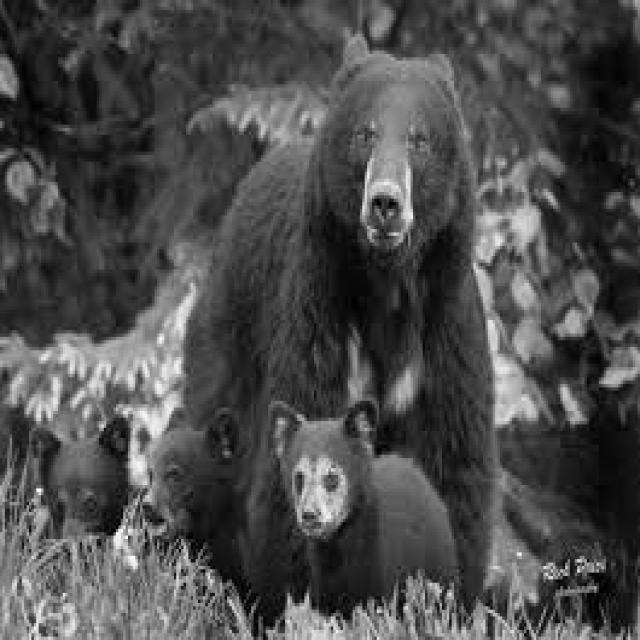Bear: (205, 59, 485, 402), (267, 414, 451, 590), (142, 404, 239, 560), (28, 410, 129, 552)
